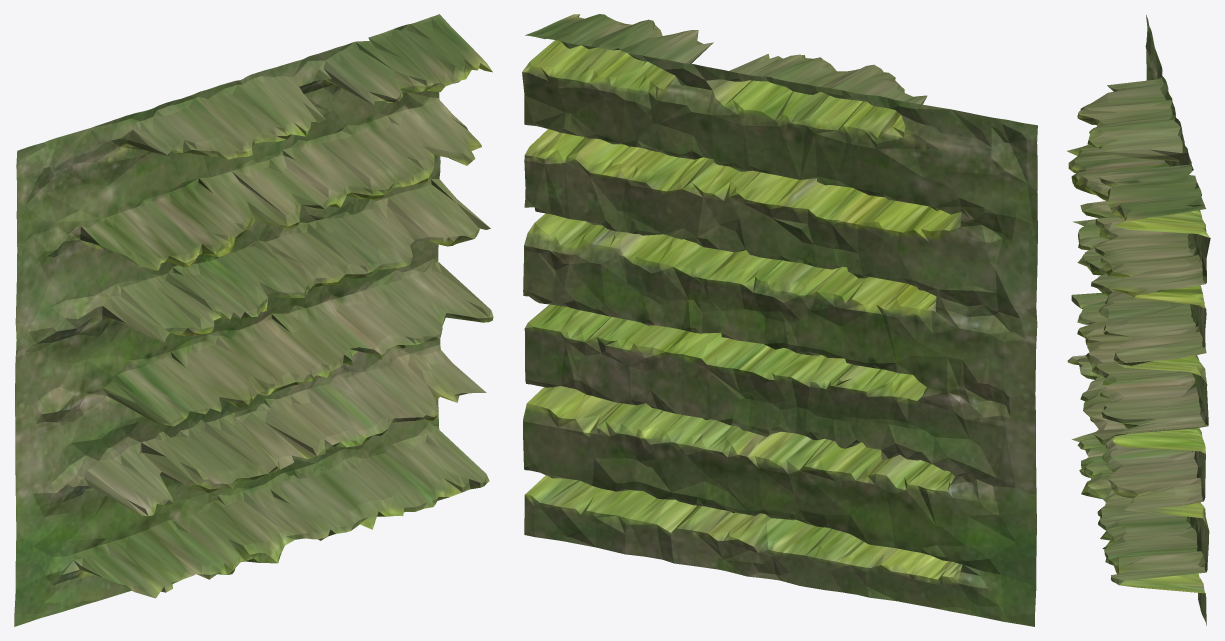
The model's file is map_240_90.obj.
3 renders of one model, left to right at view 1: azimuth 30°, elevation 25°; view 2: azimuth 150°, elevation 25°; view 3: azimuth 270°, elevation 25°, orthographic. The views are drawn at different scales.
Visible parts, largest first — view 1: grp1; view 2: grp1; view 3: grp1.
Part boxes in pixels (box(x1,y1,x2,y2)): grp1: box(14, 14, 493, 626); grp1: box(522, 14, 1037, 626); grp1: box(1067, 15, 1210, 625).
Size of the model in its own units: 10 by 10 by 3.13.
1 material, 1 textured.
